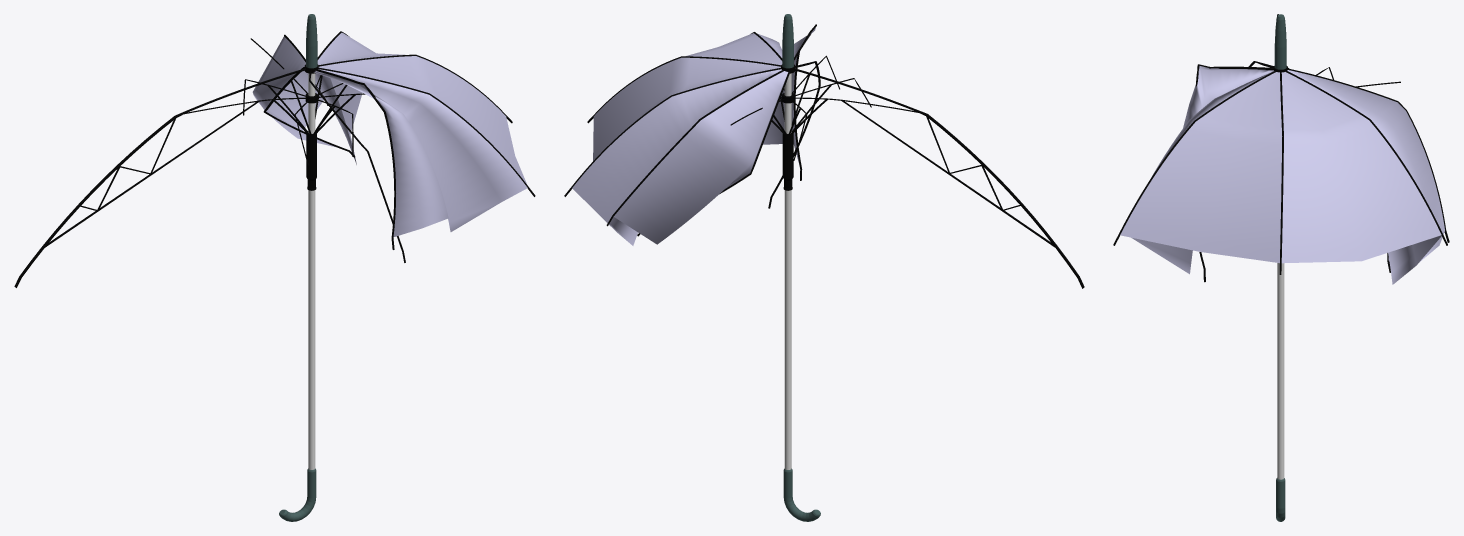
Rendered from Scythe.fbx.
The picture shows the model from 3 angles, left to right: view 1: azimuth 30°, elevation 25°; view 2: azimuth 150°, elevation 25°; view 3: azimuth 270°, elevation 25°; orthographic projection. The views are drawn at different scales.
Visible parts, largest first — view 1: NURBSパス, 円柱, ベジエ円, 円柱.003, 円柱.001; view 2: NURBSパス, 円柱, ベジエ円, 円柱.001, 円柱.003; view 3: NURBSパス, 円柱, 円柱.003, ベジエ円.
Boxes of the visible parts, x1,y1,x2,y2 form: NURBSパス: (14,31,535,287); 円柱: (308,73,315,469); ベジエ円: (279,468,316,521); 円柱.003: (306,14,317,68); 円柱.001: (306,131,316,190); NURBSパス: (564,24,1084,288); 円柱: (784,73,791,469); ベジエ円: (783,468,820,521); 円柱.001: (782,133,793,190); 円柱.003: (782,14,793,68); NURBSパス: (1113,14,1449,284); 円柱: (1277,263,1284,479); 円柱.003: (1274,14,1286,69); ベジエ円: (1276,478,1285,521).
Size of what is drawn, in the model's own units: 126 by 121 by 72.19.
